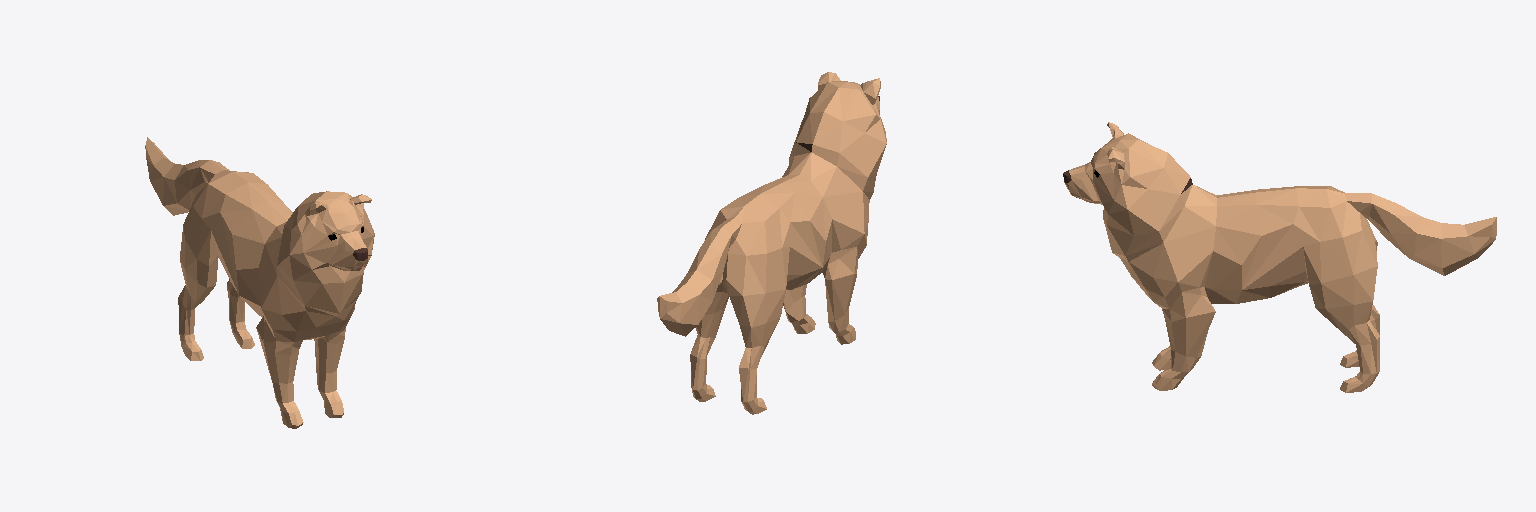
File: chow_colorMap.obj
3 renders of one model, left to right at view 1: azimuth 30°, elevation 25°; view 2: azimuth 150°, elevation 25°; view 3: azimuth 270°, elevation 25°, orthographic.
Bounding box in the file's own units: 32.87 × 83.59 × 135.